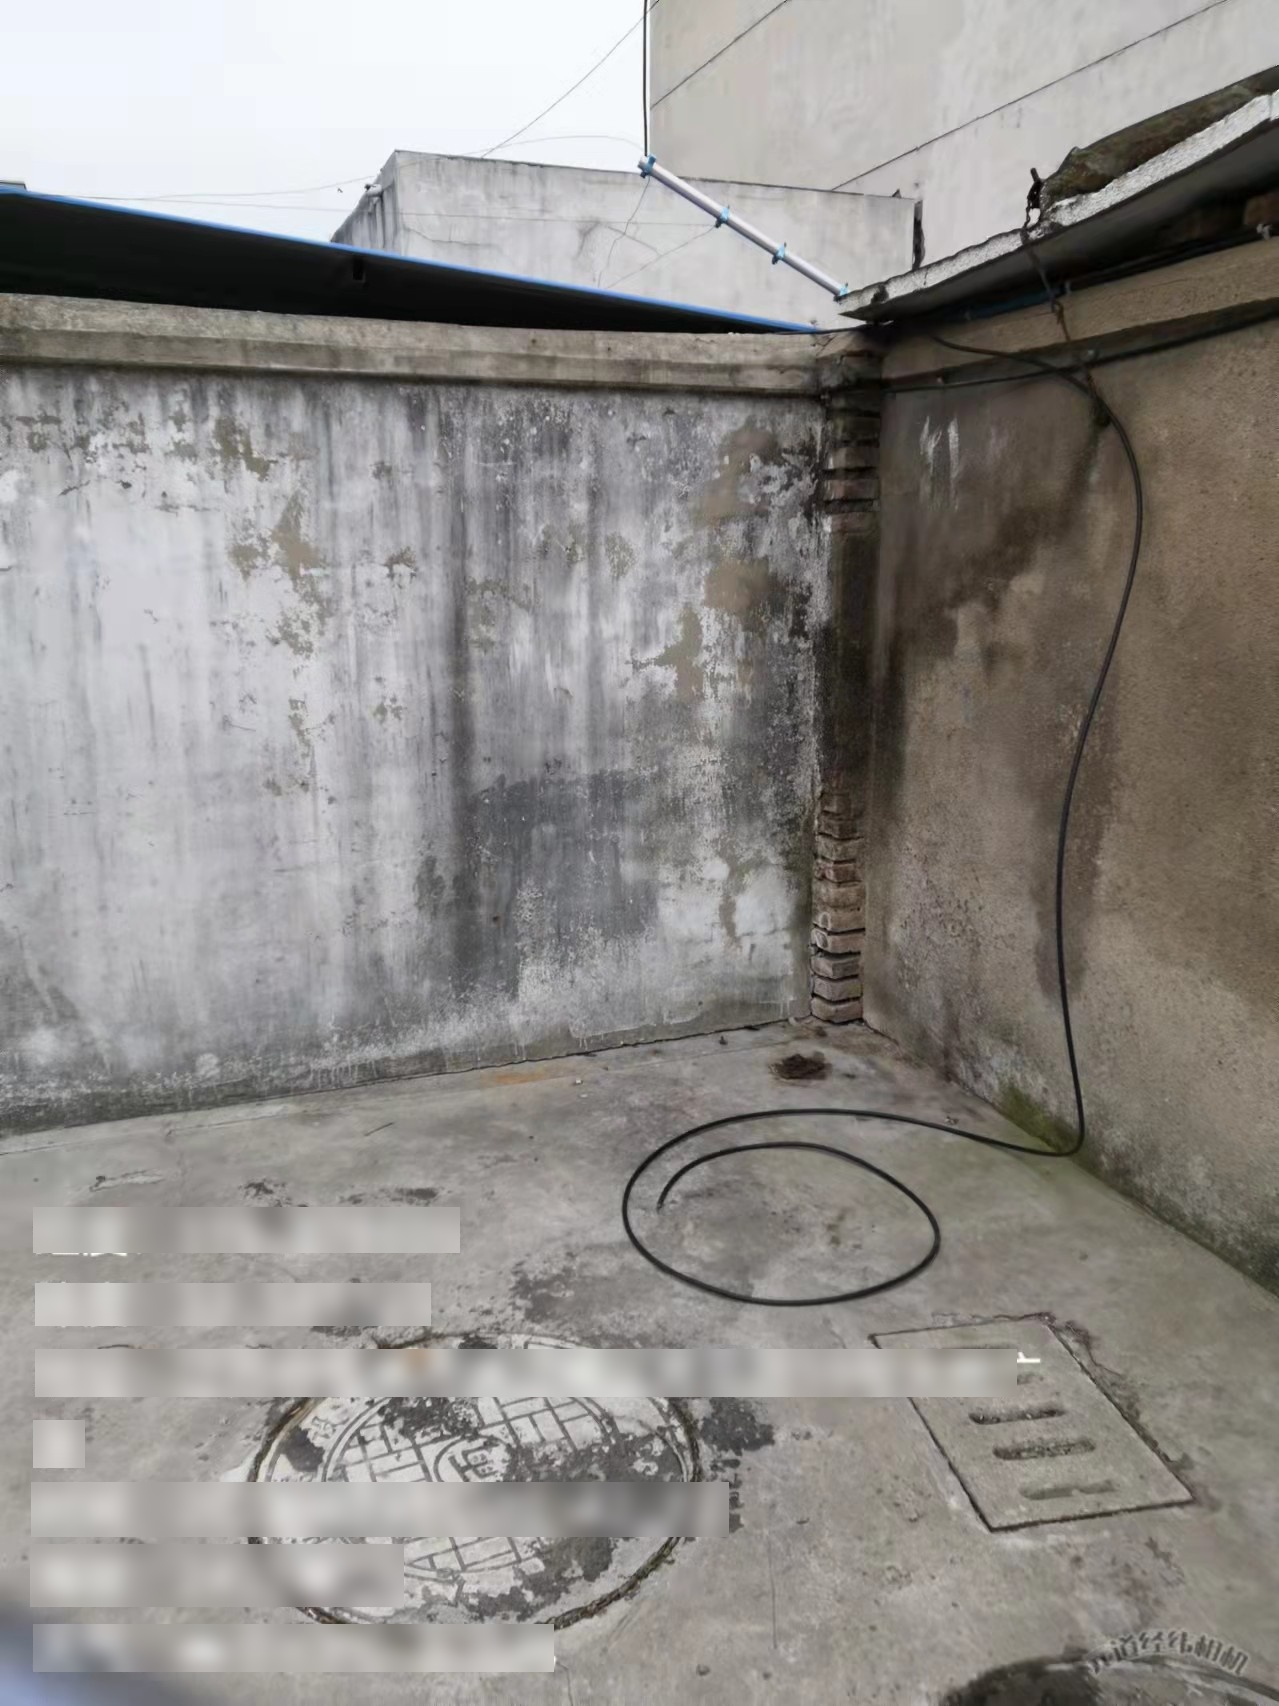good: (218, 1330, 716, 1658)
